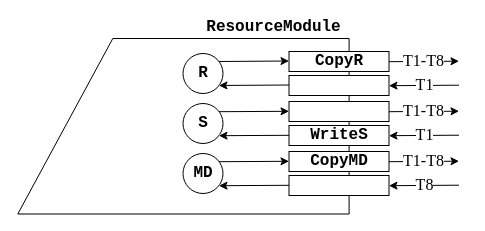
The diagram is 485 pixels wide and 231 high, and some of its shapes have lost their labels. Here are the shapes that lost their labels. From the top down, the box of each, then its label:
(288, 74, 389, 96): WriteR
(288, 100, 389, 122): CopyS
(288, 174, 389, 196): WriteMD
